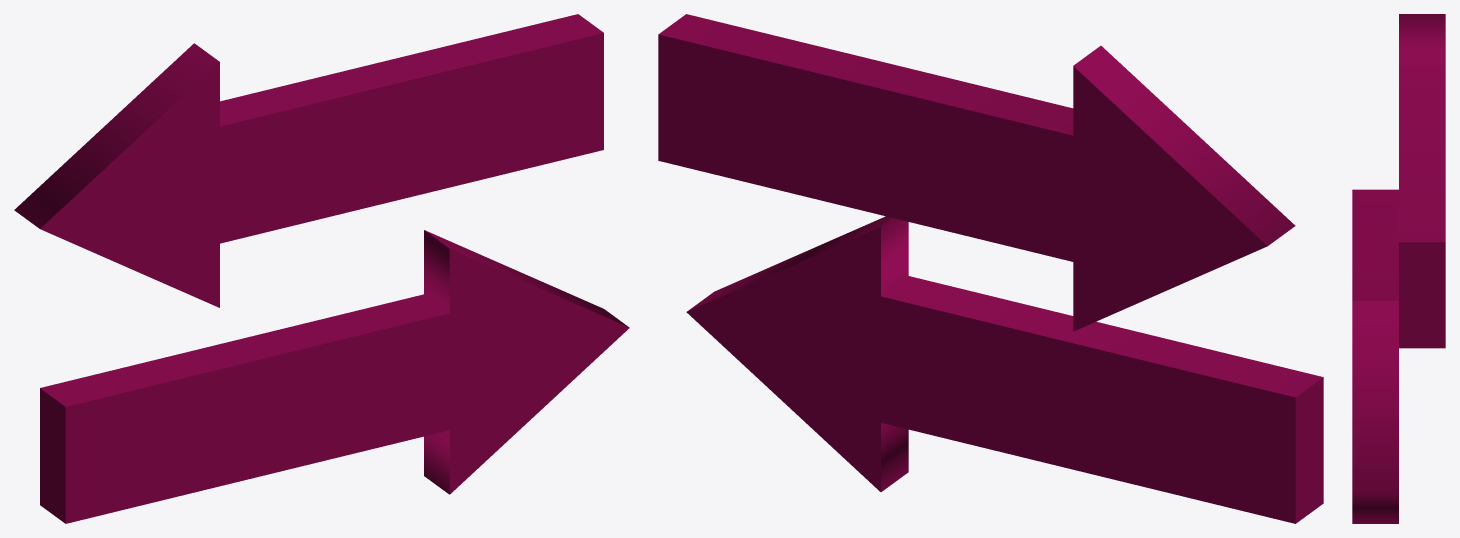
File: SM_Switch.fbx
3 renders of one model, left to right at view 1: azimuth 30°, elevation 25°; view 2: azimuth 150°, elevation 25°; view 3: azimuth 270°, elevation 25°, orthographic. The views are drawn at different scales.
Parts seen in each view (by area): view 1: Switch; view 2: Switch; view 3: Switch.
Part boxes in pixels (box(x1,y1,x2,y2)): Switch: box(14, 14, 629, 523); Switch: box(658, 14, 1323, 523); Switch: box(1352, 14, 1445, 523).
Size of the model in its own units: 7.73 by 6.07 by 1.23.
